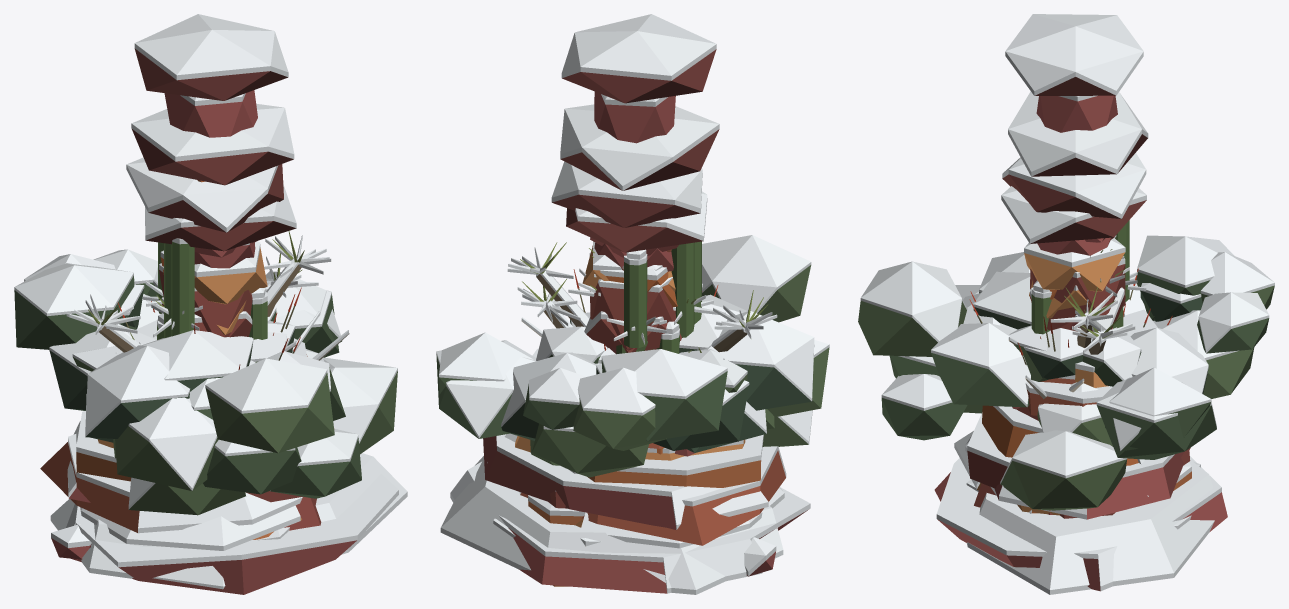
File: flora_desert.glb
3 renders of one model, left to right at view 1: azimuth 30°, elevation 25°; view 2: azimuth 150°, elevation 25°; view 3: azimuth 270°, elevation 25°, orthographic. The views are drawn at different scales.
Parts seen in each view (by area): view 1: sandstone_5_snow, juniper_3_snow, juniper_3_main, juniper_1_snow, sandstone_1_snow, juniper_2_snow, sandstone_5_main, hoodoo_1_main, hoodoo_1_snow, juniper_1_main, hoodoo_3_snow, hoodoo_3_main (+15 smaller); view 2: sandstone_1_snow, juniper_2_main, sandstone_5_main, juniper_2_snow, sandstone_5_snow, hoodoo_1_snow, hoodoo_1_main, juniper_0_snow, hoodoo_3_snow, juniper_3_snow, sandstone_1_main, juniper_1_snow (+18 smaller); view 3: sandstone_1_snow, juniper_0_snow, juniper_2_snow, juniper_3_snow, juniper_0_main, hoodoo_1_snow, juniper_3_main, hoodoo_3_snow, sandstone_5_snow, juniper_2_main, juniper_1_snow, hoodoo_1_main (+13 smaller).
Boxes of the visible parts, bbox=[...] form: sandstone_5_snow: bbox=[66, 320, 398, 567]; juniper_3_snow: bbox=[142, 320, 358, 490]; juniper_3_main: bbox=[113, 329, 361, 498]; juniper_1_snow: bbox=[85, 345, 330, 509]; sandstone_1_snow: bbox=[50, 338, 407, 589]; juniper_2_snow: bbox=[14, 249, 276, 375]; sandstone_5_main: bbox=[40, 442, 356, 594]; hoodoo_1_main: bbox=[134, 48, 287, 337]; hoodoo_1_snow: bbox=[134, 14, 288, 291]; juniper_1_main: bbox=[85, 367, 345, 515]; hoodoo_3_snow: bbox=[131, 103, 294, 324]; hoodoo_3_main: bbox=[132, 129, 293, 337]; sandstone_1_snow: bbox=[440, 348, 784, 594]; juniper_2_main: bbox=[523, 354, 749, 477]; sandstone_5_main: bbox=[508, 450, 807, 593]; juniper_2_snow: bbox=[529, 326, 749, 431]; sandstone_5_snow: bbox=[450, 363, 810, 593]; hoodoo_1_snow: bbox=[561, 14, 716, 292]; hoodoo_1_main: bbox=[562, 49, 716, 350]; juniper_0_snow: bbox=[436, 332, 597, 438]; hoodoo_3_snow: bbox=[560, 104, 719, 363]; juniper_3_snow: bbox=[570, 235, 811, 349]; sandstone_1_main: bbox=[483, 436, 766, 529]; juniper_1_snow: bbox=[704, 311, 829, 444]; sandstone_1_snow: bbox=[954, 380, 1214, 594]; juniper_0_snow: bbox=[1000, 327, 1216, 483]; juniper_2_snow: bbox=[1083, 235, 1274, 380]; juniper_3_snow: bbox=[860, 261, 1085, 410]; juniper_0_main: bbox=[1000, 371, 1216, 510]; hoodoo_1_snow: bbox=[1005, 14, 1143, 277]; juniper_3_main: bbox=[858, 301, 1083, 440]; hoodoo_3_snow: bbox=[1008, 91, 1148, 330]; sandstone_5_snow: bbox=[936, 309, 1221, 590]; juniper_2_main: bbox=[1082, 272, 1274, 398]; juniper_1_snow: bbox=[931, 252, 1030, 406]; hoodoo_1_main: bbox=[1030, 77, 1125, 329].
Size of the model in its own units: 6.3 by 9.3 by 7.08.
